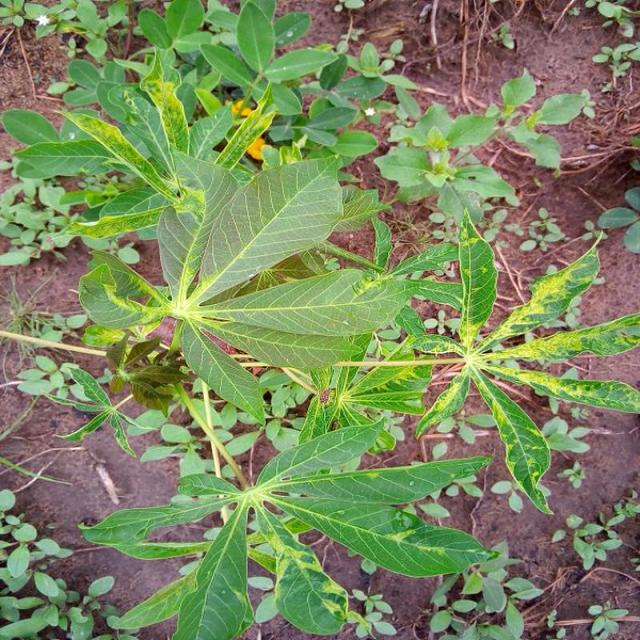cassava leaf: (4, 4, 638, 637), (194, 153, 346, 306)
